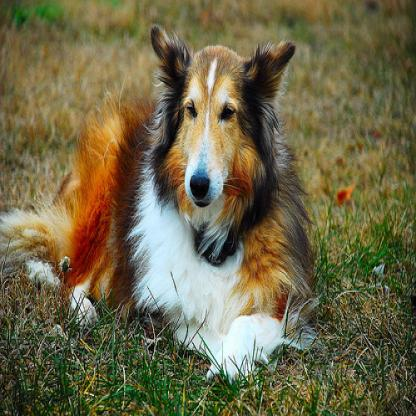Shetland_sheepdog: (0, 19, 318, 380)
